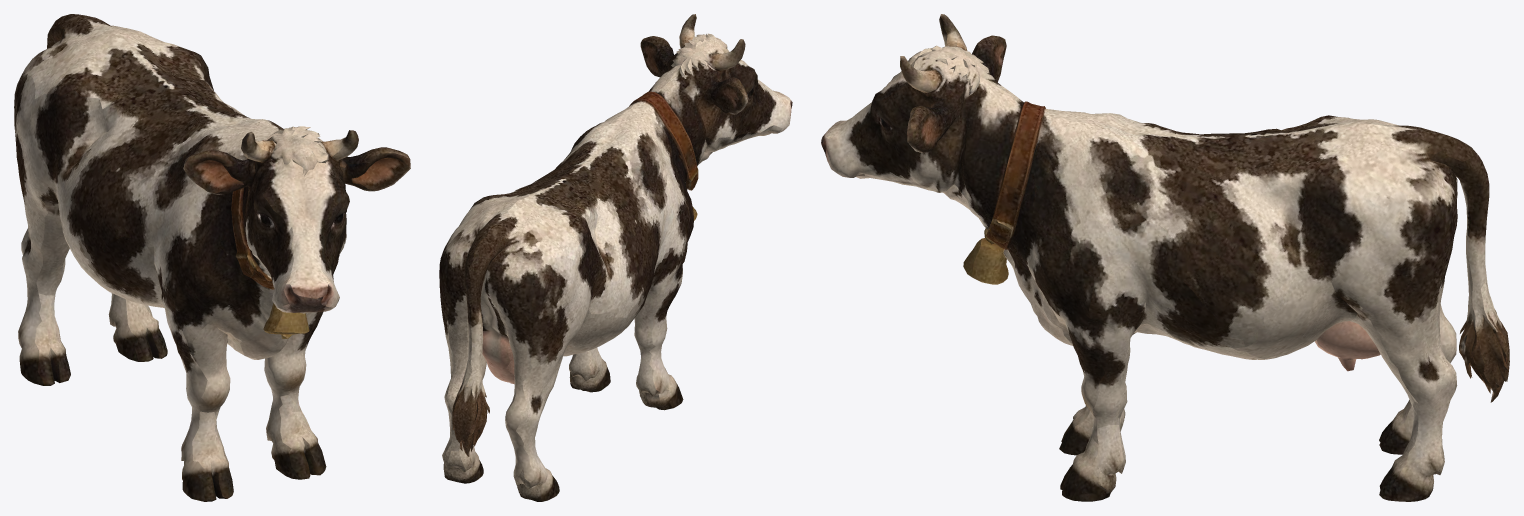
The model's file is cow_lite.glb.
The picture shows the model from 3 angles, left to right: view 1: azimuth 30°, elevation 25°; view 2: azimuth 150°, elevation 25°; view 3: azimuth 270°, elevation 25°; orthographic projection. The views are drawn at different scales.
Parts seen in each view (by area): view 1: geometry_0; view 2: geometry_0; view 3: geometry_0.
Boxes of the visible parts, bbox=[...] form: geometry_0: bbox=[14, 14, 410, 501]; geometry_0: bbox=[439, 14, 792, 501]; geometry_0: bbox=[821, 14, 1509, 501].
Bounding box in the file's own units: 0.6705 × 1.27 × 1.9.
Materials: 1 (1 with a texture image).
